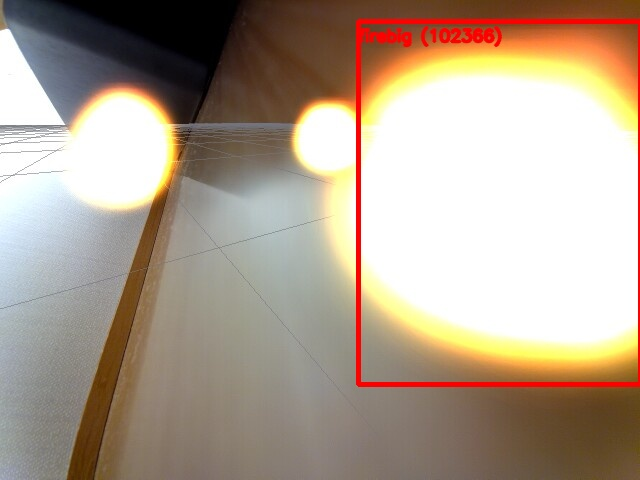firebig: (358, 21, 640, 384)
